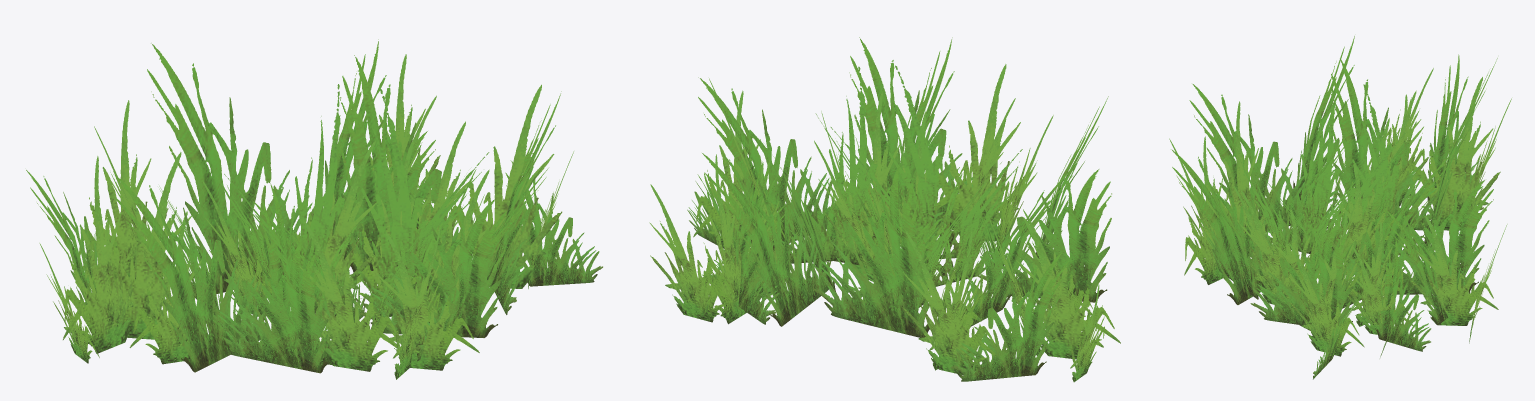
File: Herbes01_TransferedNormals_Flipped.fbx
3 renders of one model, left to right at view 1: azimuth 30°, elevation 25°; view 2: azimuth 150°, elevation 25°; view 3: azimuth 270°, elevation 25°, orthographic. The views are drawn at different scales.
Visible parts, largest first — view 1: Herbes01_TransferedNormals_Flipped; view 2: Herbes01_TransferedNormals_Flipped; view 3: Herbes01_TransferedNormals_Flipped.
Part boxes in pixels (x1=…): Herbes01_TransferedNormals_Flipped: x1=26, y1=39, x2=602, y2=379; Herbes01_TransferedNormals_Flipped: x1=649, y1=37, x2=1120, y2=382; Herbes01_TransferedNormals_Flipped: x1=1169, y1=36, x2=1511, y2=379.
Size of the model in its own units: 1.46 by 0.7326 by 1.09.
